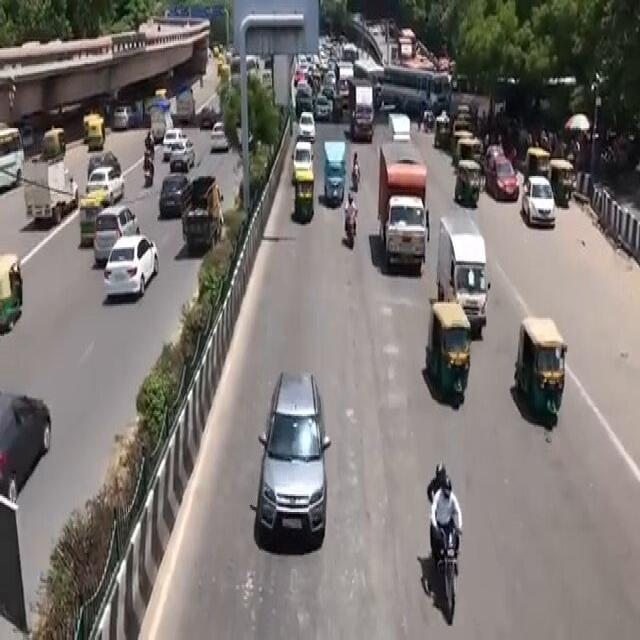three_wheeler: (417, 295, 483, 425)
